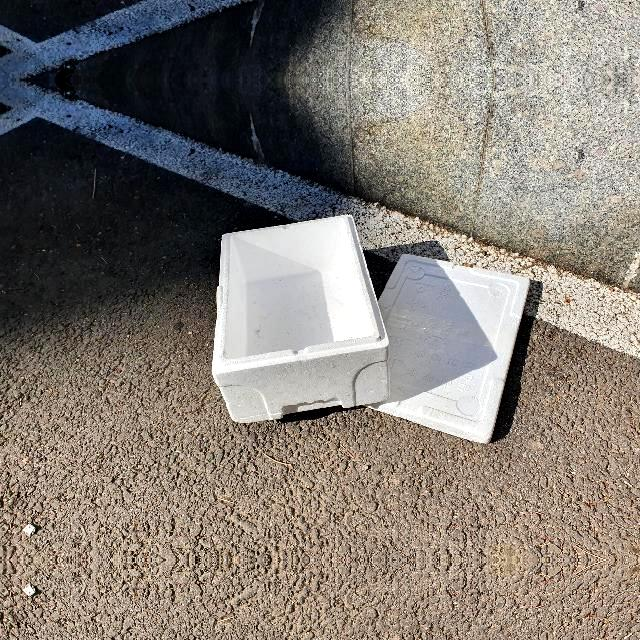Styrofoam: (212, 213, 390, 424), (212, 215, 390, 423), (371, 253, 531, 445), (371, 255, 530, 443)
